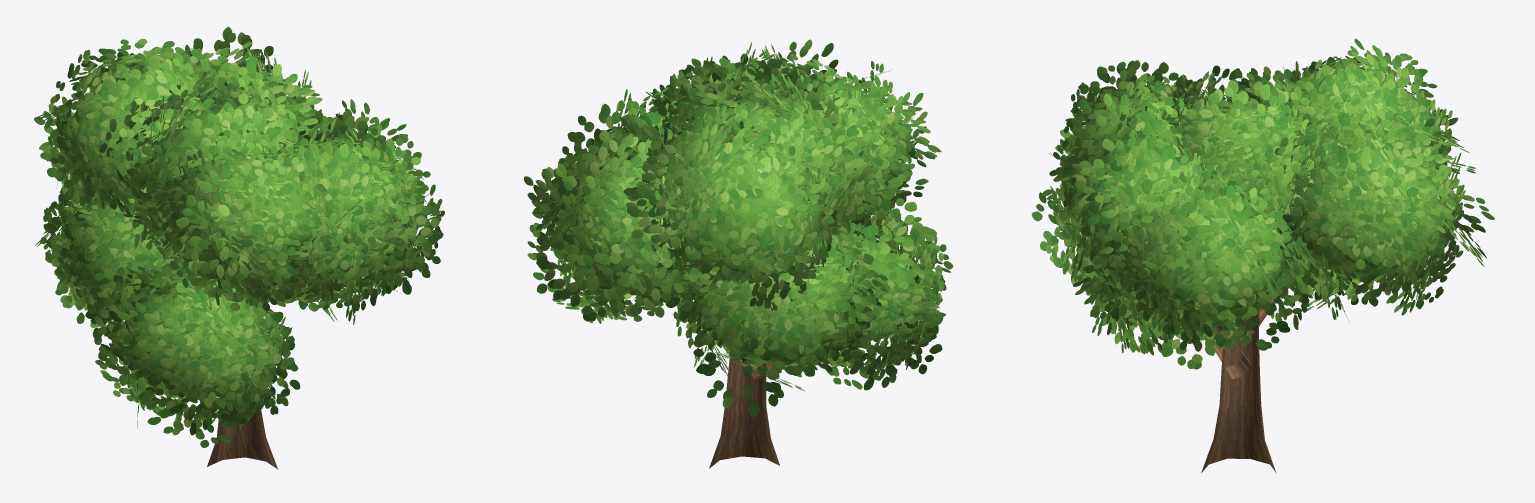
The model's file is tree_oak.glb.
3 renders of one model, left to right at view 1: azimuth 30°, elevation 25°; view 2: azimuth 150°, elevation 25°; view 3: azimuth 270°, elevation 25°, orthographic.
Visible parts, largest first — view 1: tree_oak, tree_oak_bark_Oak; view 2: tree_oak, tree_oak_bark_Oak; view 3: tree_oak, tree_oak_bark_Oak.
Part boxes in pixels (<box>): tree_oak: <box>34,27,444,447</box>; tree_oak_bark_Oak: <box>207,382,277,469</box>; tree_oak: <box>523,39,953,416</box>; tree_oak_bark_Oak: <box>709,358,779,468</box>; tree_oak: <box>1031,38,1494,369</box>; tree_oak_bark_Oak: <box>1201,289,1280,473</box>.
Size of the model in its own units: 8.58 by 8.76 by 9.43.
Materials: 3 (2 with a texture image).
